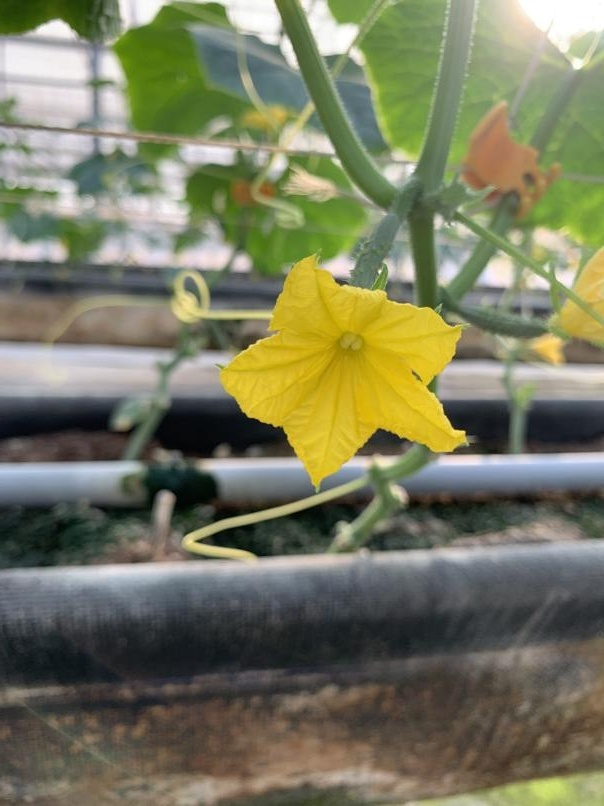flowering: (211, 197, 486, 495)
